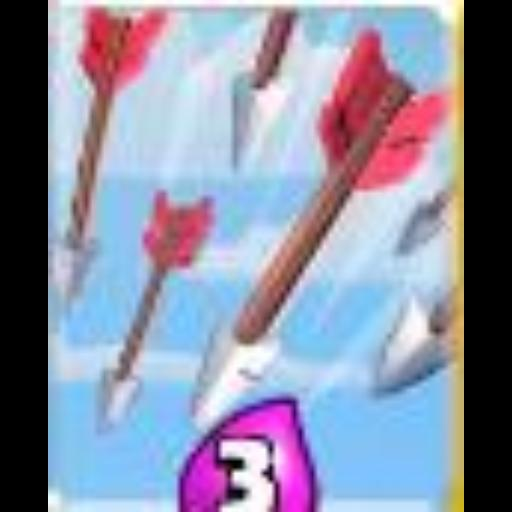arrows: (49, 0, 465, 512)
